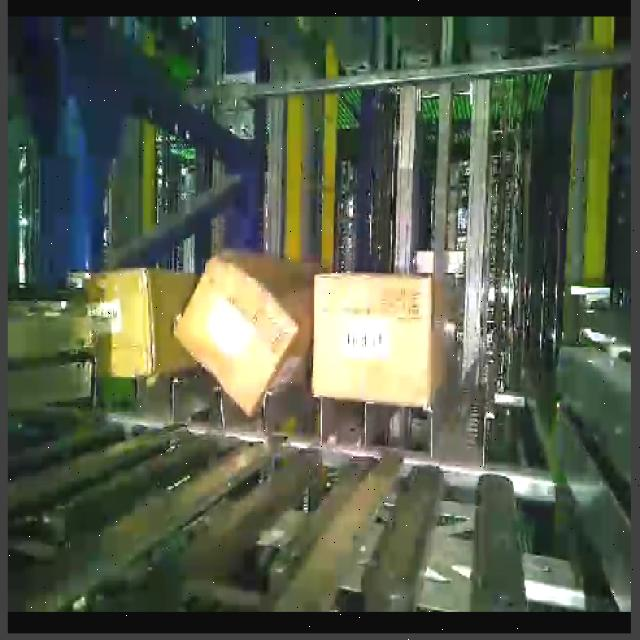box: (312, 274, 434, 409)
